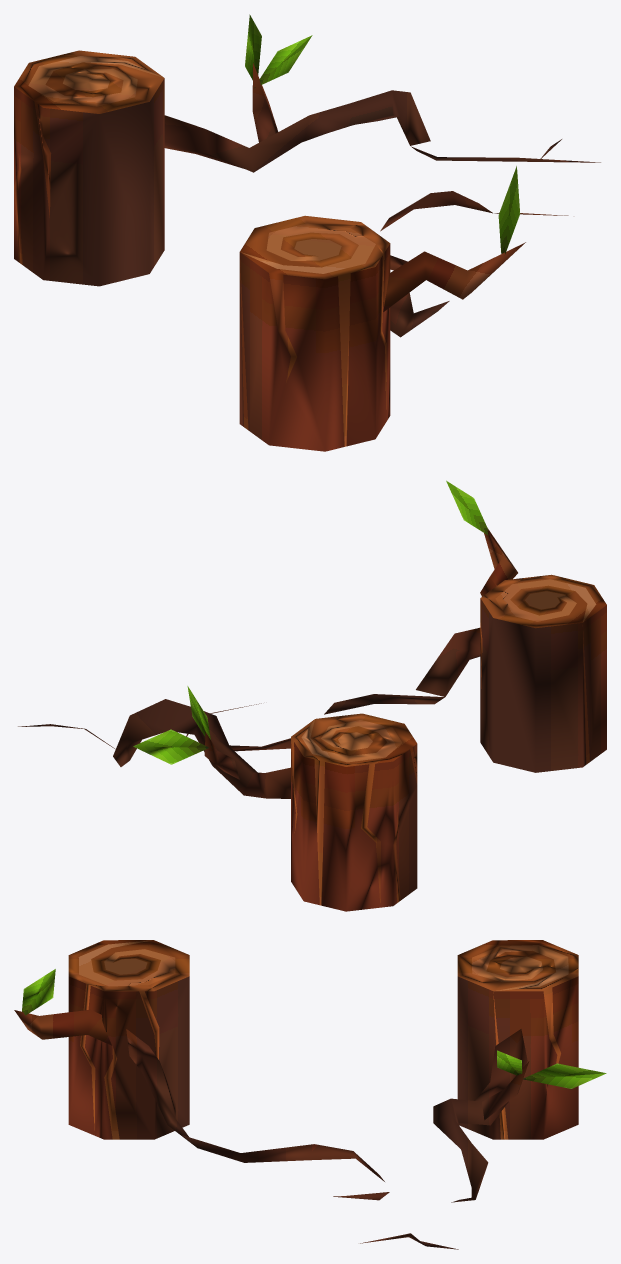
Rendered from TreeHugger_Power1.glb.
3 renders of one model, top to bottom at view 1: azimuth 30°, elevation 25°; view 2: azimuth 150°, elevation 25°; view 3: azimuth 270°, elevation 25°, orthographic. The views are drawn at different scales.
Parts seen in each view (by area): view 1: TreeHugger_Power1; view 2: TreeHugger_Power1; view 3: TreeHugger_Power1.
Boxes of the visible parts, x1,y1,x2,y2 form: TreeHugger_Power1: (14,14,600,451); TreeHugger_Power1: (18,480,606,911); TreeHugger_Power1: (14,940,606,1249).
Size of the model in its own units: 4.62 by 2.18 by 5.52.
Materials: 1 (1 with a texture image).
